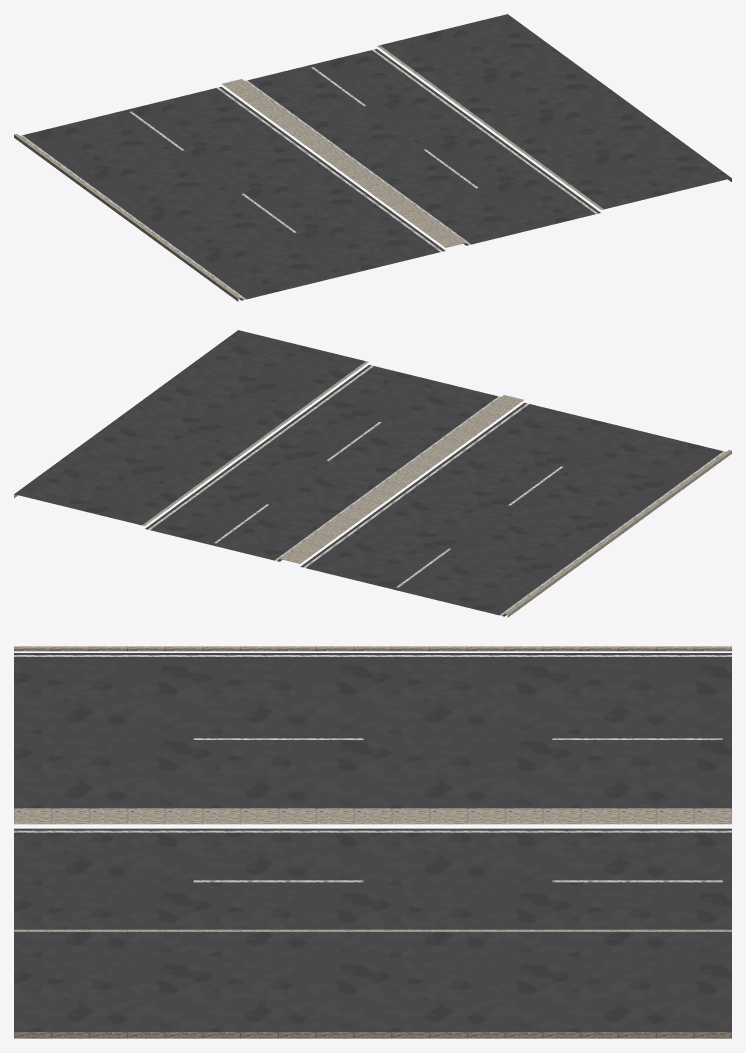
The model's file is SM_Viale_Italia_Strada_v2_LOD2.fbx.
3 renders of one model, top to bottom at view 1: azimuth 30°, elevation 25°; view 2: azimuth 150°, elevation 25°; view 3: azimuth 270°, elevation 25°, orthographic. The views are drawn at different scales.
Parts seen in each view (by area): view 1: SM_Viale_Italia_Strada_v2_LOD2; view 2: SM_Viale_Italia_Strada_v2_LOD2; view 3: SM_Viale_Italia_Strada_v2_LOD2.
Boxes of the visible parts, left/top/right/bottom form: SM_Viale_Italia_Strada_v2_LOD2: left=14, top=14, right=731, bottom=301; SM_Viale_Italia_Strada_v2_LOD2: left=14, top=330, right=731, bottom=617; SM_Viale_Italia_Strada_v2_LOD2: left=14, top=646, right=731, bottom=1038.
Bounding box in the file's own units: 2415 × 1900 × 20.
Materials: 3 (3 with a texture image).
